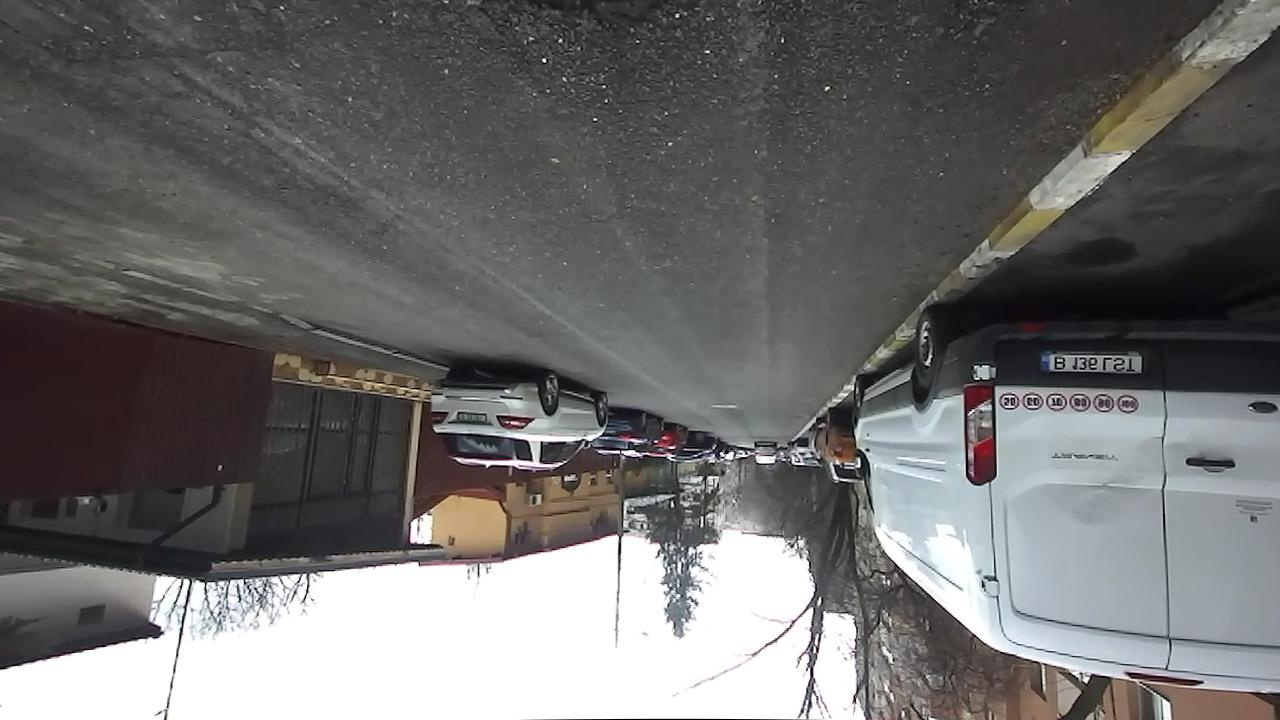pothole: (481, 0, 710, 18)
